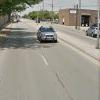Car: (34, 21, 62, 49)
